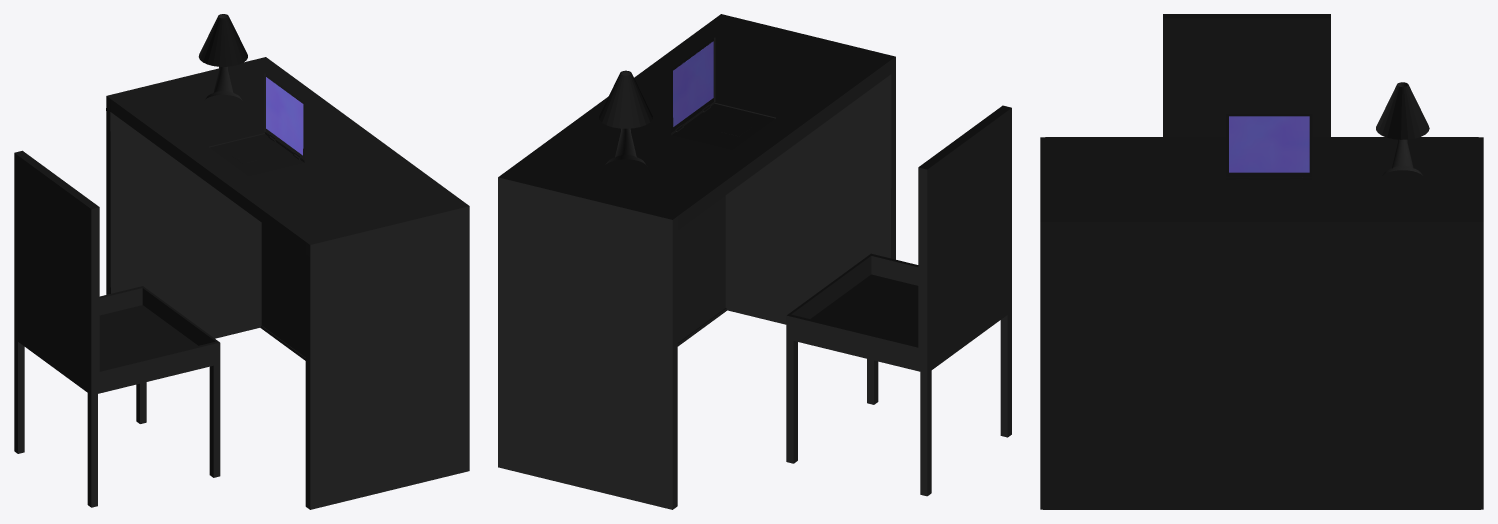
Rendered from desk.obj.
3 renders of one model, left to right at view 1: azimuth 30°, elevation 25°; view 2: azimuth 150°, elevation 25°; view 3: azimuth 270°, elevation 25°, orthographic. The views are drawn at different scales.
Parts seen in each view (by area): view 1: obj2, obj1, obj5, obj6, obj3, obj4, obj7; view 2: obj2, obj1, obj5, obj6, obj3, obj4, obj7; view 3: obj2, obj1, obj6, obj3, obj4, obj7.
Boxes of the visible parts, left/top/right/bottom form: obj2: left=106, top=57, right=469, bottom=509; obj1: left=14, top=150, right=220, bottom=507; obj5: left=209, top=133, right=304, bottom=176; obj6: left=266, top=77, right=303, bottom=155; obj3: left=198, top=14, right=247, bottom=66; obj4: left=203, top=66, right=243, bottom=111; obj7: left=264, top=73, right=305, bottom=161; obj2: left=498, top=14, right=895, bottom=509; obj1: left=786, top=105, right=1011, bottom=496; obj5: left=671, top=102, right=775, bottom=150; obj6: left=673, top=41, right=713, bottom=126; obj3: left=599, top=70, right=652, bottom=128; obj4: left=603, top=128, right=647, bottom=177; obj7: left=670, top=37, right=715, bottom=133; obj2: left=1040, top=137, right=1483, bottom=509; obj1: left=1163, top=14, right=1330, bottom=136; obj6: left=1229, top=116, right=1309, bottom=172; obj3: left=1376, top=82, right=1429, bottom=139; obj4: left=1380, top=139, right=1424, bottom=188; obj7: left=1226, top=114, right=1312, bottom=177.
Bounding box in the file's own units: 1.57 × 1.64 × 1.72.
